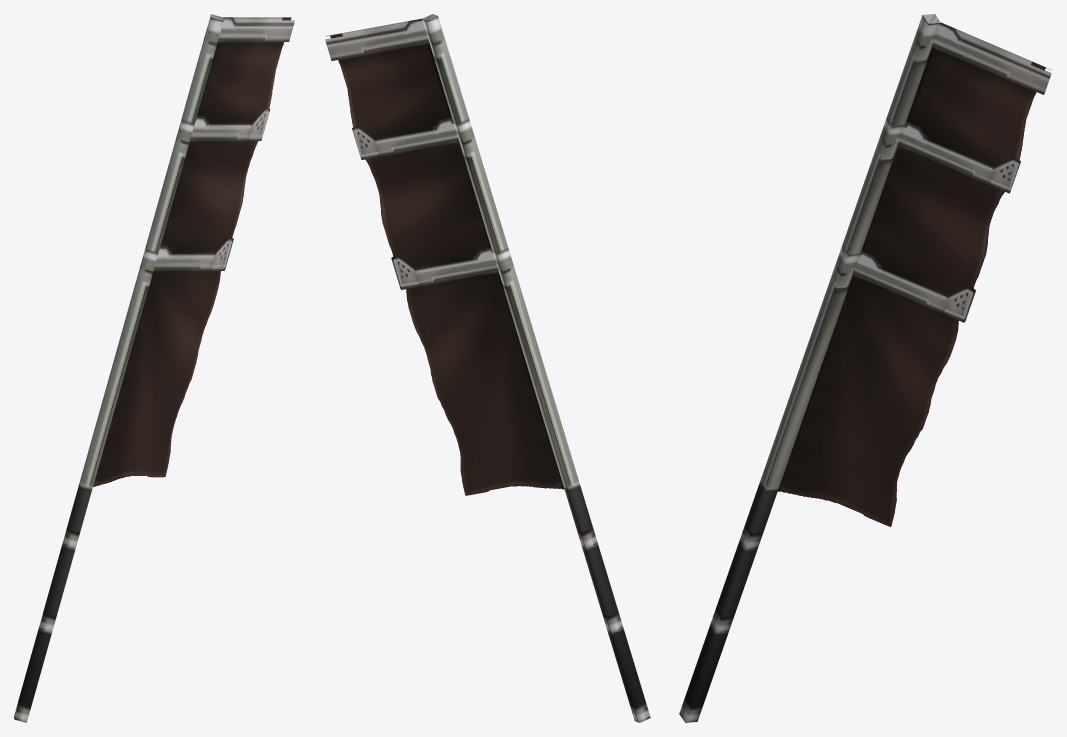
The picture shows the model from 3 angles, left to right: view 1: azimuth 30°, elevation 25°; view 2: azimuth 150°, elevation 25°; view 3: azimuth 330°, elevation 25°; orthographic projection. The views are drawn at different scales.
Parts seen in each view (by area): view 1: 3_Z_32; view 2: 3_Z_32; view 3: 3_Z_32.
Part boxes in pixels (x1,y1,x2,y2): 3_Z_32: (14, 14, 294, 722); 3_Z_32: (325, 14, 650, 722); 3_Z_32: (679, 14, 1051, 722).
Bounding box in the file's own units: 142 × 19.7 × 293.
